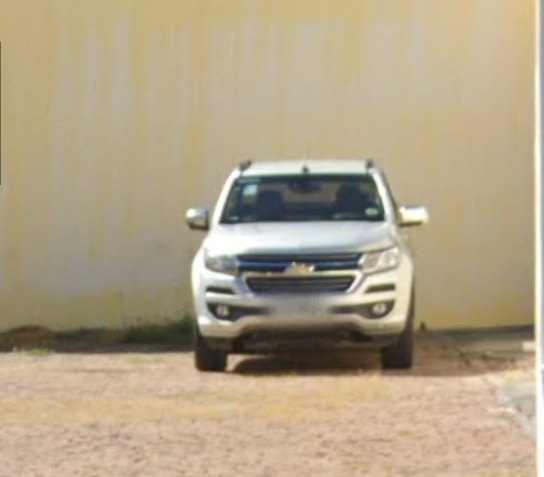car: (173, 136, 440, 382)
